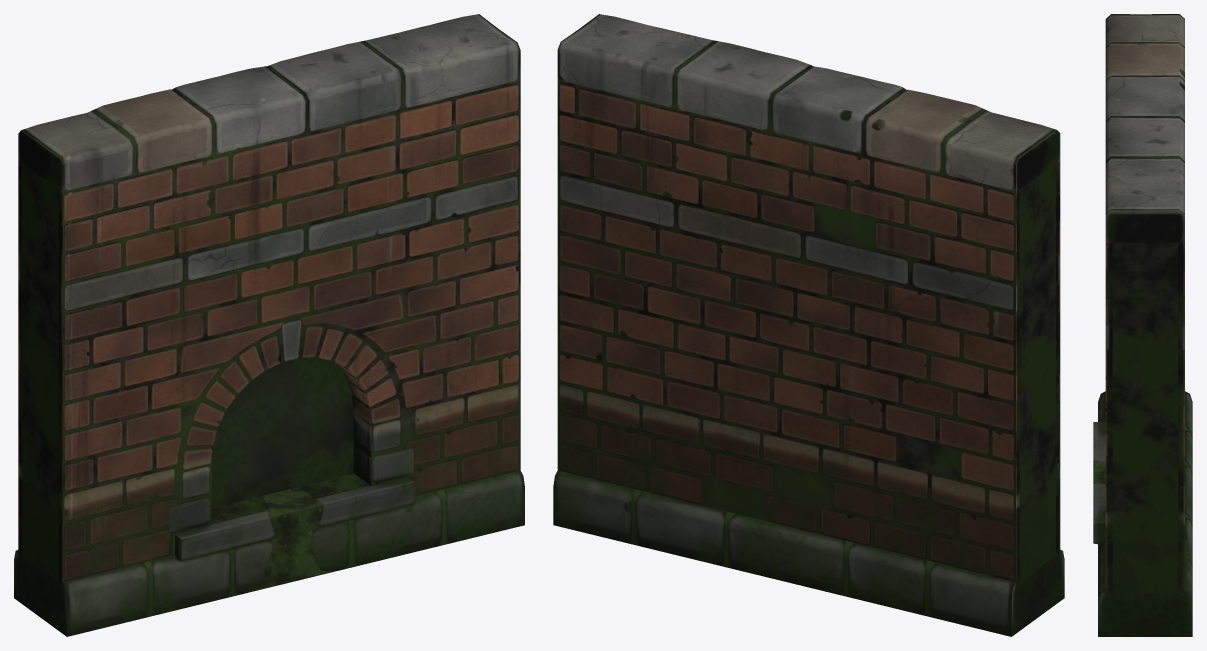
Rendered from sunken_wall_b.glb.
The picture shows the model from 3 angles, left to right: view 1: azimuth 30°, elevation 25°; view 2: azimuth 150°, elevation 25°; view 3: azimuth 270°, elevation 25°; orthographic projection. The views are drawn at different scales.
Parts seen in each view (by area): view 1: sunken_wall_b; view 2: sunken_wall_b; view 3: sunken_wall_b.
Boxes of the visible parts, <box> form: sunken_wall_b: <box>14,14,524,636</box>; sunken_wall_b: <box>553,14,1064,636</box>; sunken_wall_b: <box>1093,14,1192,636</box>.
Size of the model in its own units: 4 by 4.01 by 0.84.
Materials: 1 (1 with a texture image).
